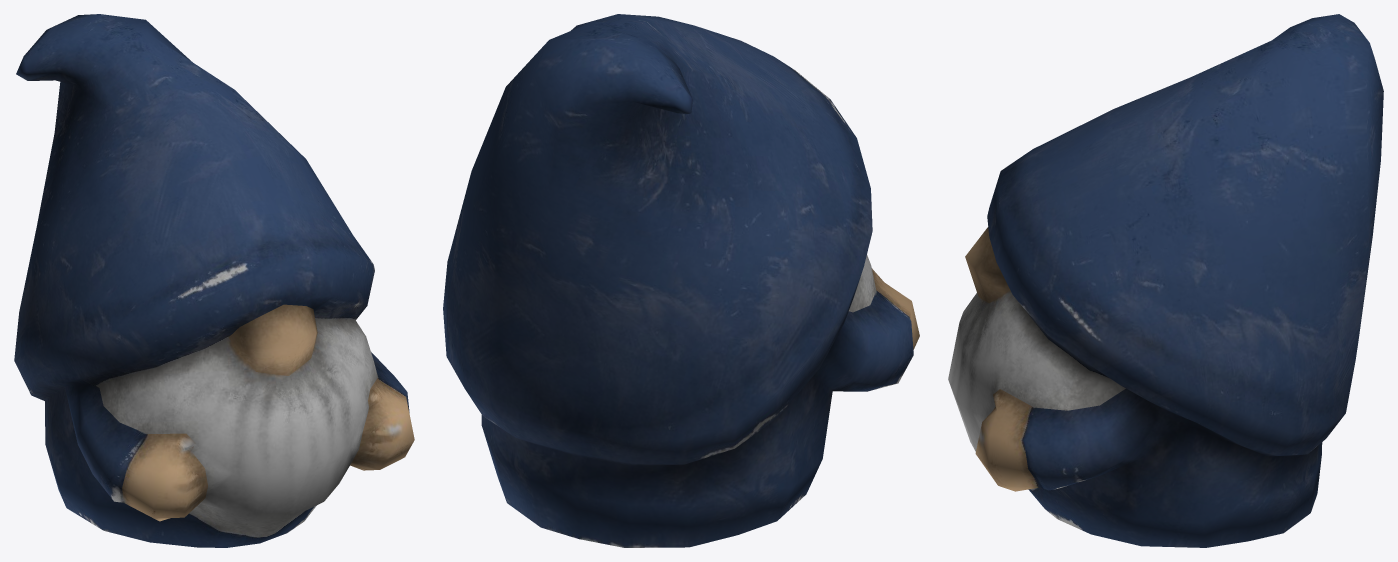
3 renders of one model, left to right at view 1: azimuth 30°, elevation 25°; view 2: azimuth 150°, elevation 25°; view 3: azimuth 270°, elevation 25°, orthographic. The views are drawn at different scales.
Visible parts, largest first — view 1: gnome_low; view 2: gnome_low; view 3: gnome_low.
Boxes of the visible parts, x1,y1,x2,y2 form: gnome_low: (14, 14, 414, 547); gnome_low: (443, 14, 919, 547); gnome_low: (948, 14, 1383, 547).
Size of the model in its own units: 1.49 by 2 by 1.74.
Materials: 1 (1 with a texture image).
